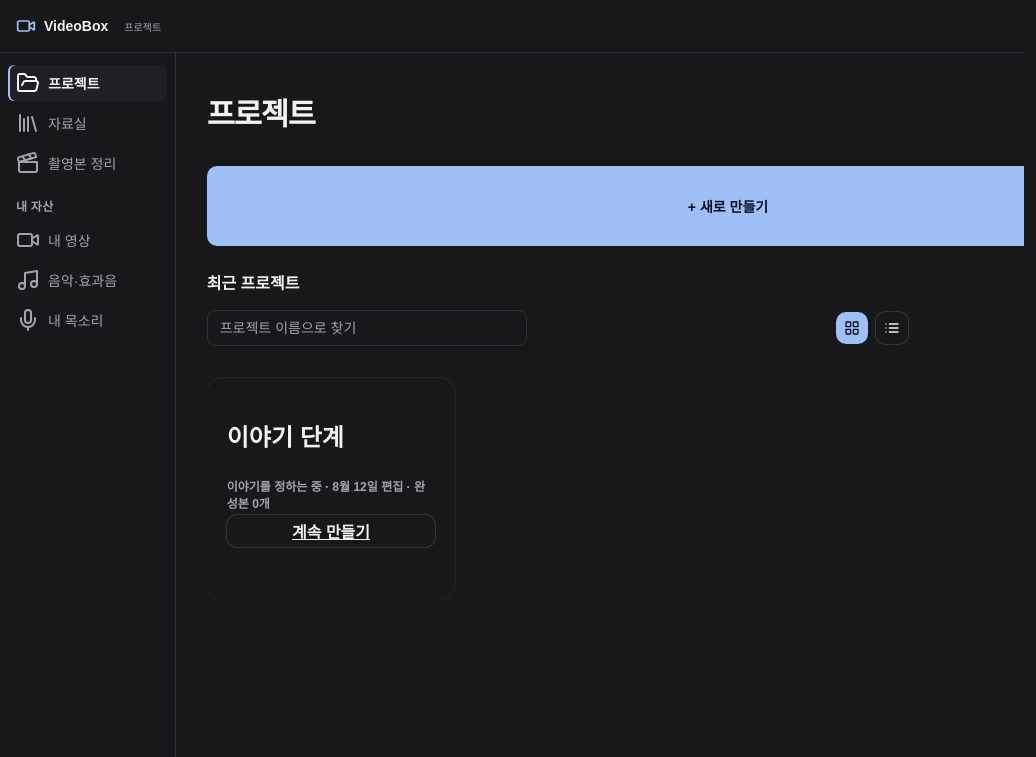
it: AppRouter URL ownership › says which search found nothing, instead of showing an empty grid
Expected: the element named "이야기 단계 프로젝트" is shown, [207,378,455,599]
Type "존재하지않음" into the search field named "프로젝트 검색" at (367, 328), box [207,310,527,346]
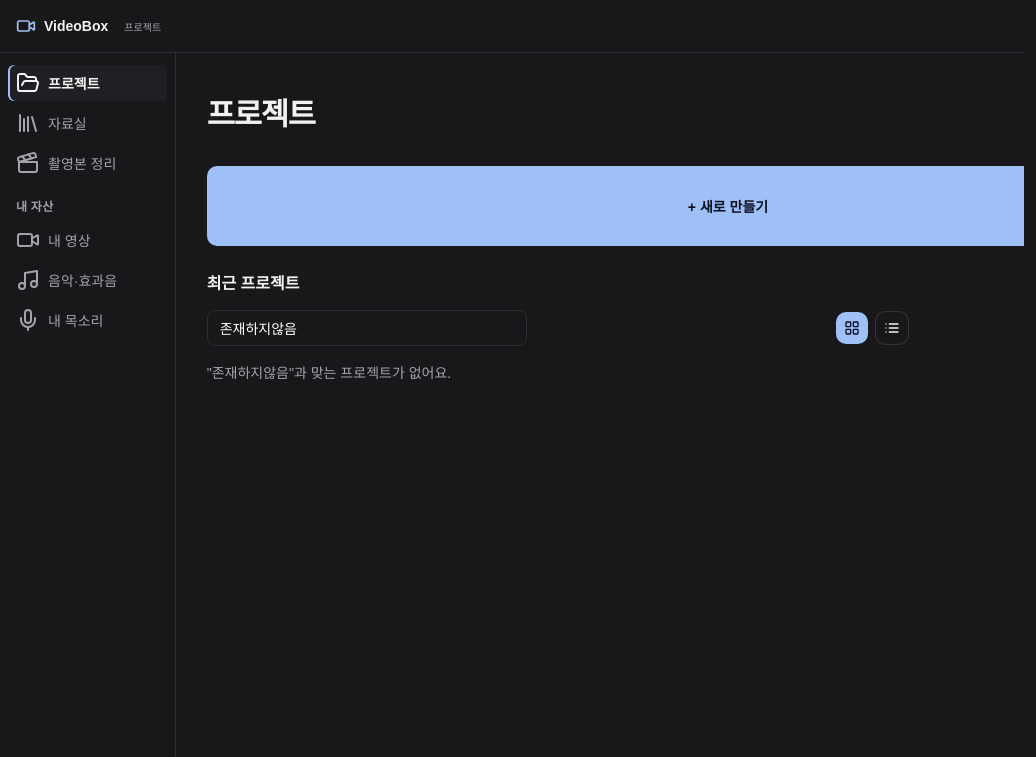
Result: the text "\"존재하지않음\"과 맞는 프로젝트가 없어요." is shown at [207,365,451,381]
